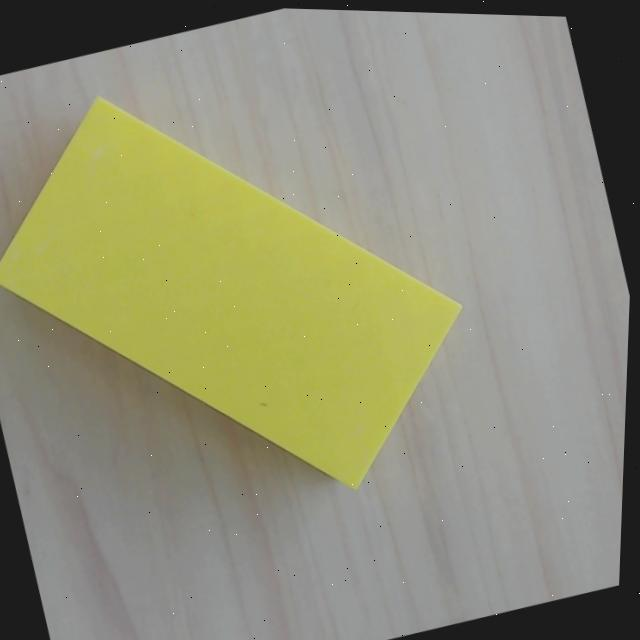Balok-Kuning-1005025: (0, 93, 462, 489)
